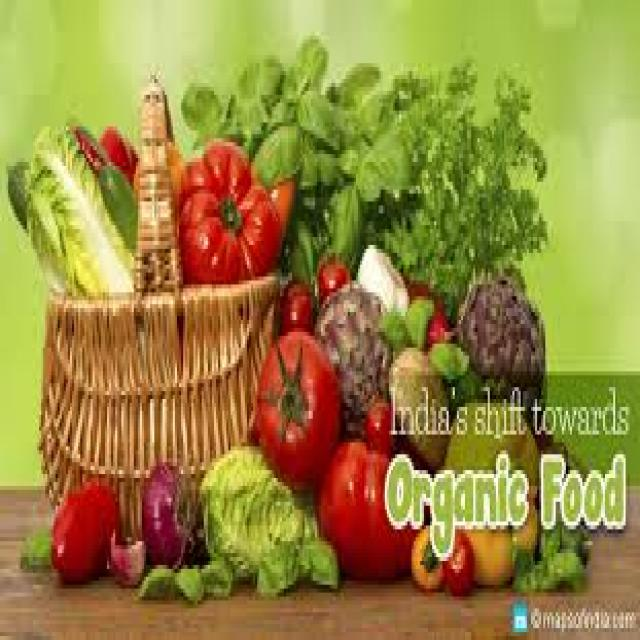organic waste: (181, 35, 410, 268), (381, 55, 545, 308), (198, 438, 338, 592), (24, 118, 130, 296), (438, 399, 537, 585), (173, 138, 280, 284), (315, 426, 418, 576), (459, 272, 545, 434), (255, 328, 340, 486), (317, 276, 389, 418), (384, 340, 448, 462), (47, 478, 121, 581), (140, 450, 195, 565), (136, 553, 230, 605), (511, 522, 586, 584), (358, 122, 410, 198), (354, 233, 403, 308), (74, 122, 132, 182), (96, 158, 132, 249), (251, 115, 298, 182), (405, 276, 451, 344), (438, 526, 476, 592), (103, 525, 146, 581), (278, 35, 321, 91), (179, 83, 218, 142), (409, 522, 438, 588), (338, 59, 374, 107), (313, 253, 346, 304), (401, 292, 432, 344), (364, 395, 393, 450), (280, 276, 309, 328), (6, 154, 27, 225), (18, 525, 52, 565)
